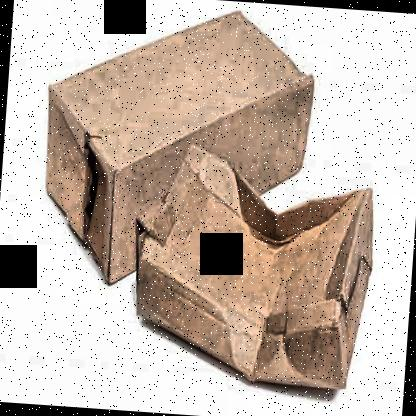defect parcel: (124, 137, 387, 410), (13, 75, 142, 281)
